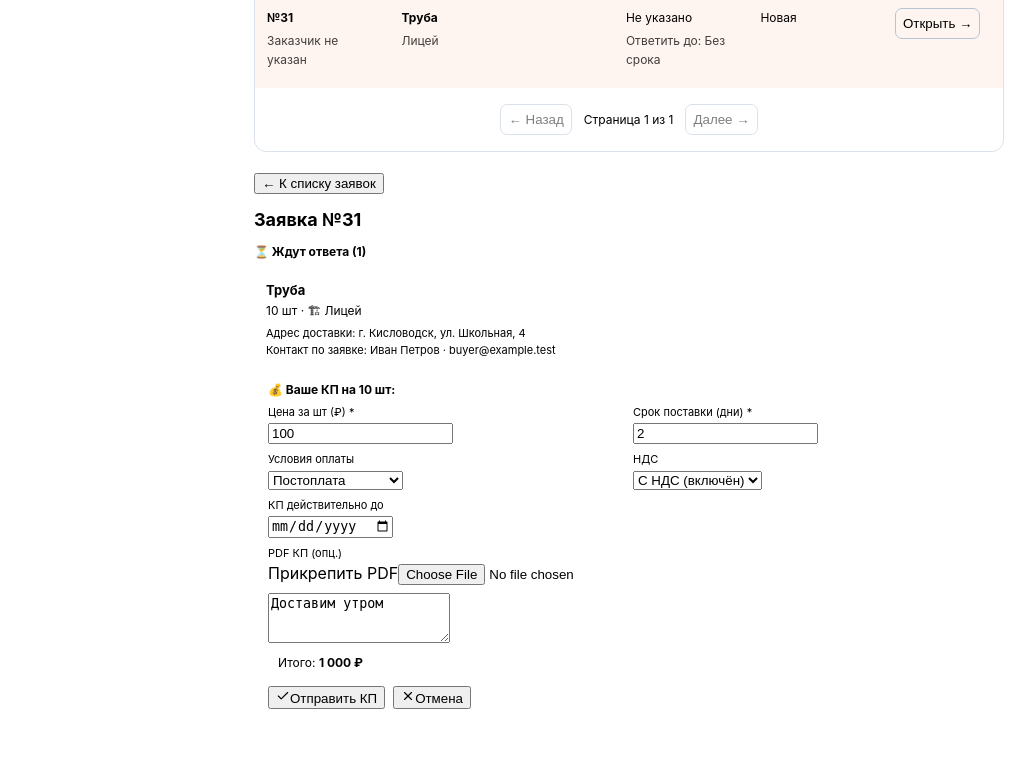
Test: supplier offer submission › hides the draft when returning to the list and restores it on reopening
(page scrolled)
Expected: the text box showing "Доставим утром" is shown, [268,593,450,643]
Click the button "← К списку заявок" at {"x": 319, "y": 183}, box [254,173,384,194]
(page scrolled)
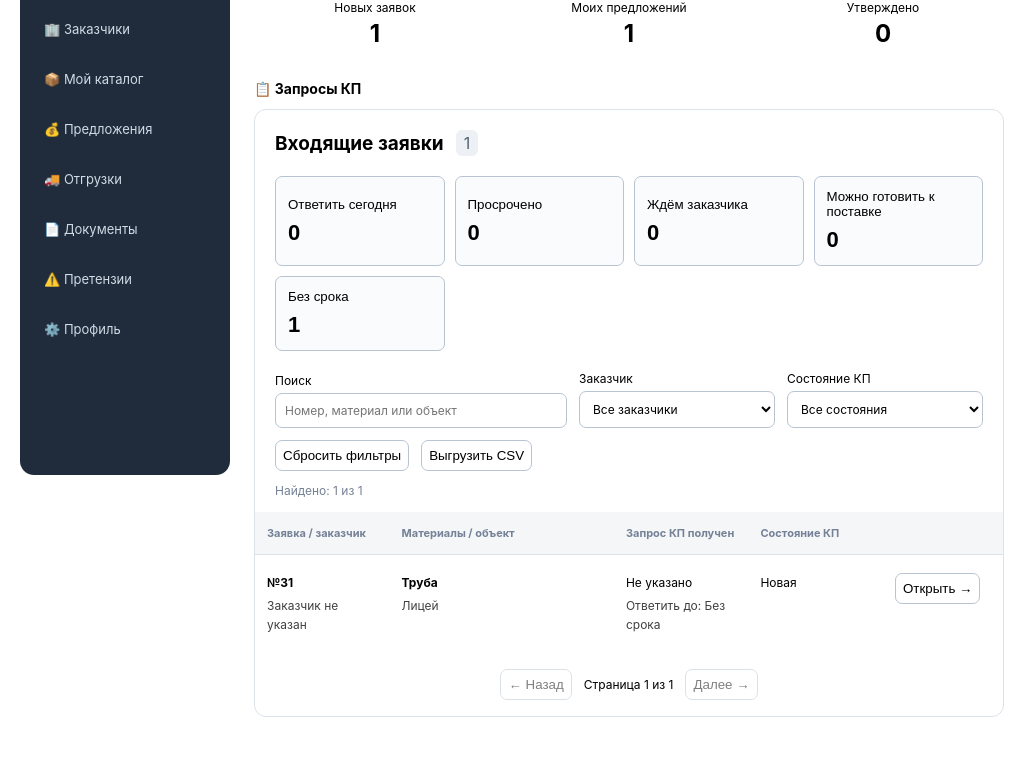
Expected: the field showing "Доставим утром" is not shown
Expected: the button "Отправить КП" is gone
Click the button with aria-label "Открыть заявку №31" at {"x": 938, "y": 588}, box [895,573,980,604]
(page scrolled)
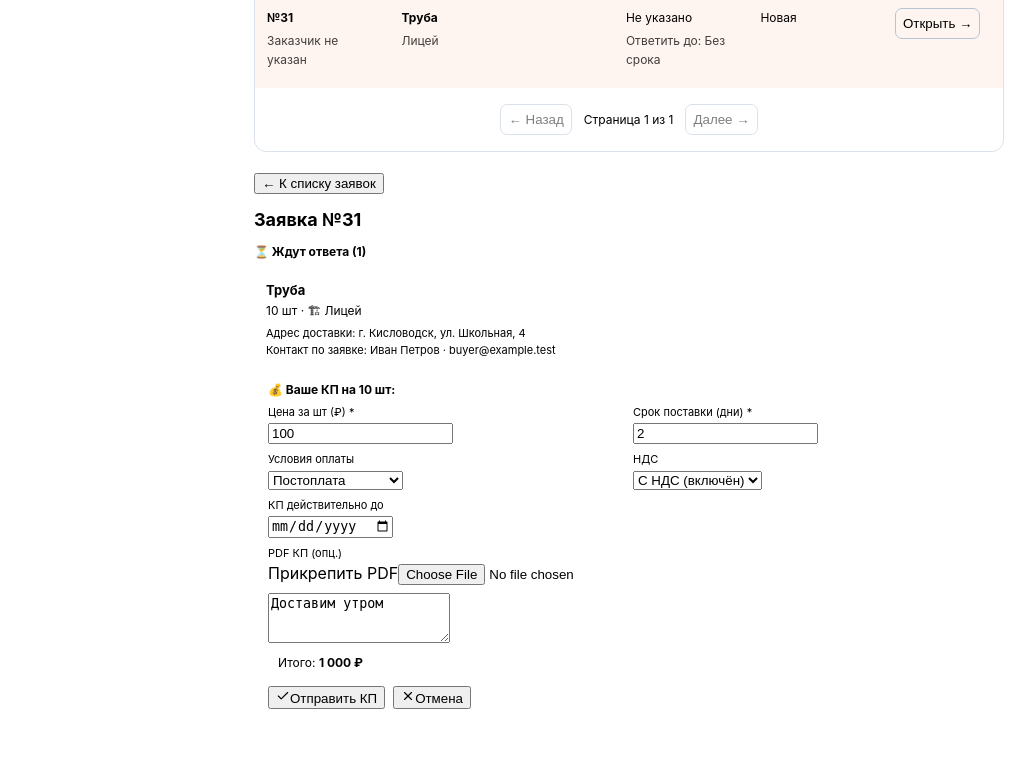
Expected: the text box showing "Доставим утром" is shown, [268,593,450,643]
